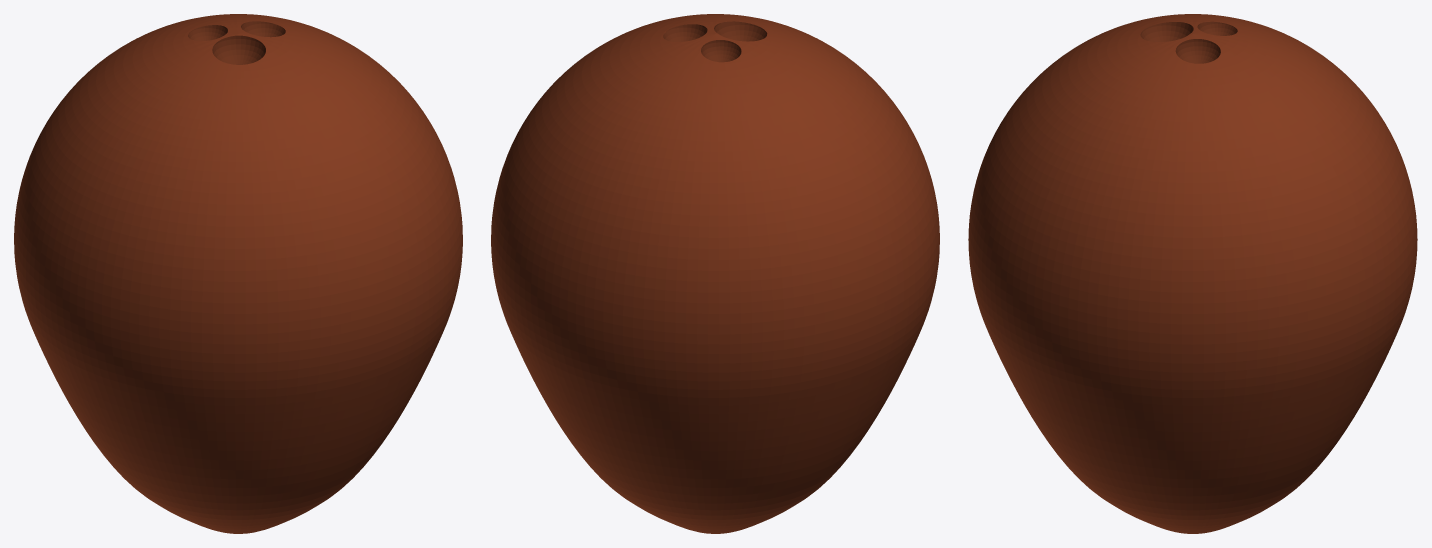
The model's file is Coconut.fbx.
3 renders of one model, left to right at view 1: azimuth 30°, elevation 25°; view 2: azimuth 150°, elevation 25°; view 3: azimuth 270°, elevation 25°, orthographic.
Parts seen in each view (by area): view 1: Coconut; view 2: Coconut; view 3: Coconut.
Boxes of the visible parts, left/top/right/bottom form: Coconut: left=14, top=14, right=462, bottom=533; Coconut: left=491, top=14, right=939, bottom=533; Coconut: left=968, top=14, right=1417, bottom=533.
Size of the model in its own units: 197 by 240 by 197.
